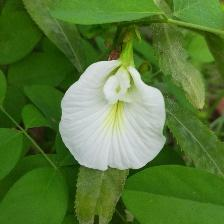shankupushpam: (60, 61, 171, 175)
